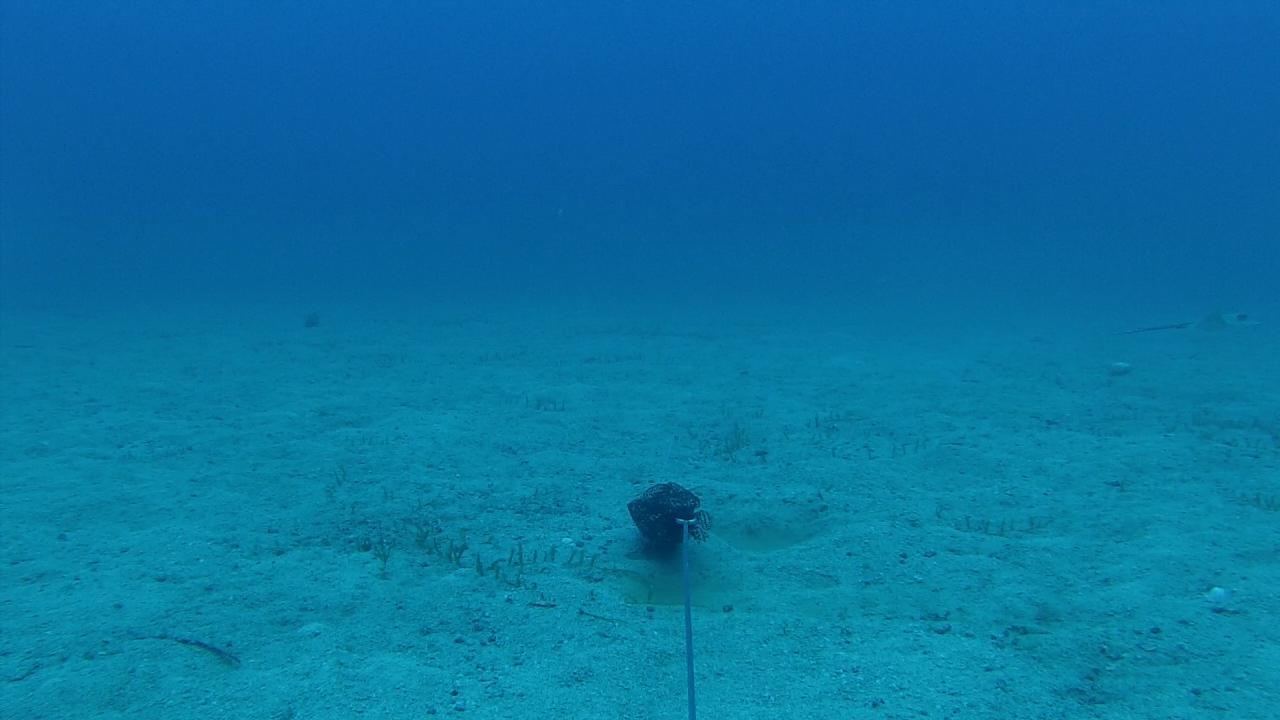bothus: (128, 621, 242, 667), (1201, 581, 1279, 617)
dasyatis: (1105, 313, 1261, 336)
